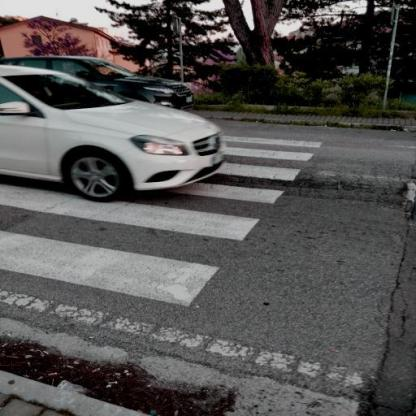crosswalk: (0, 177, 265, 319)
